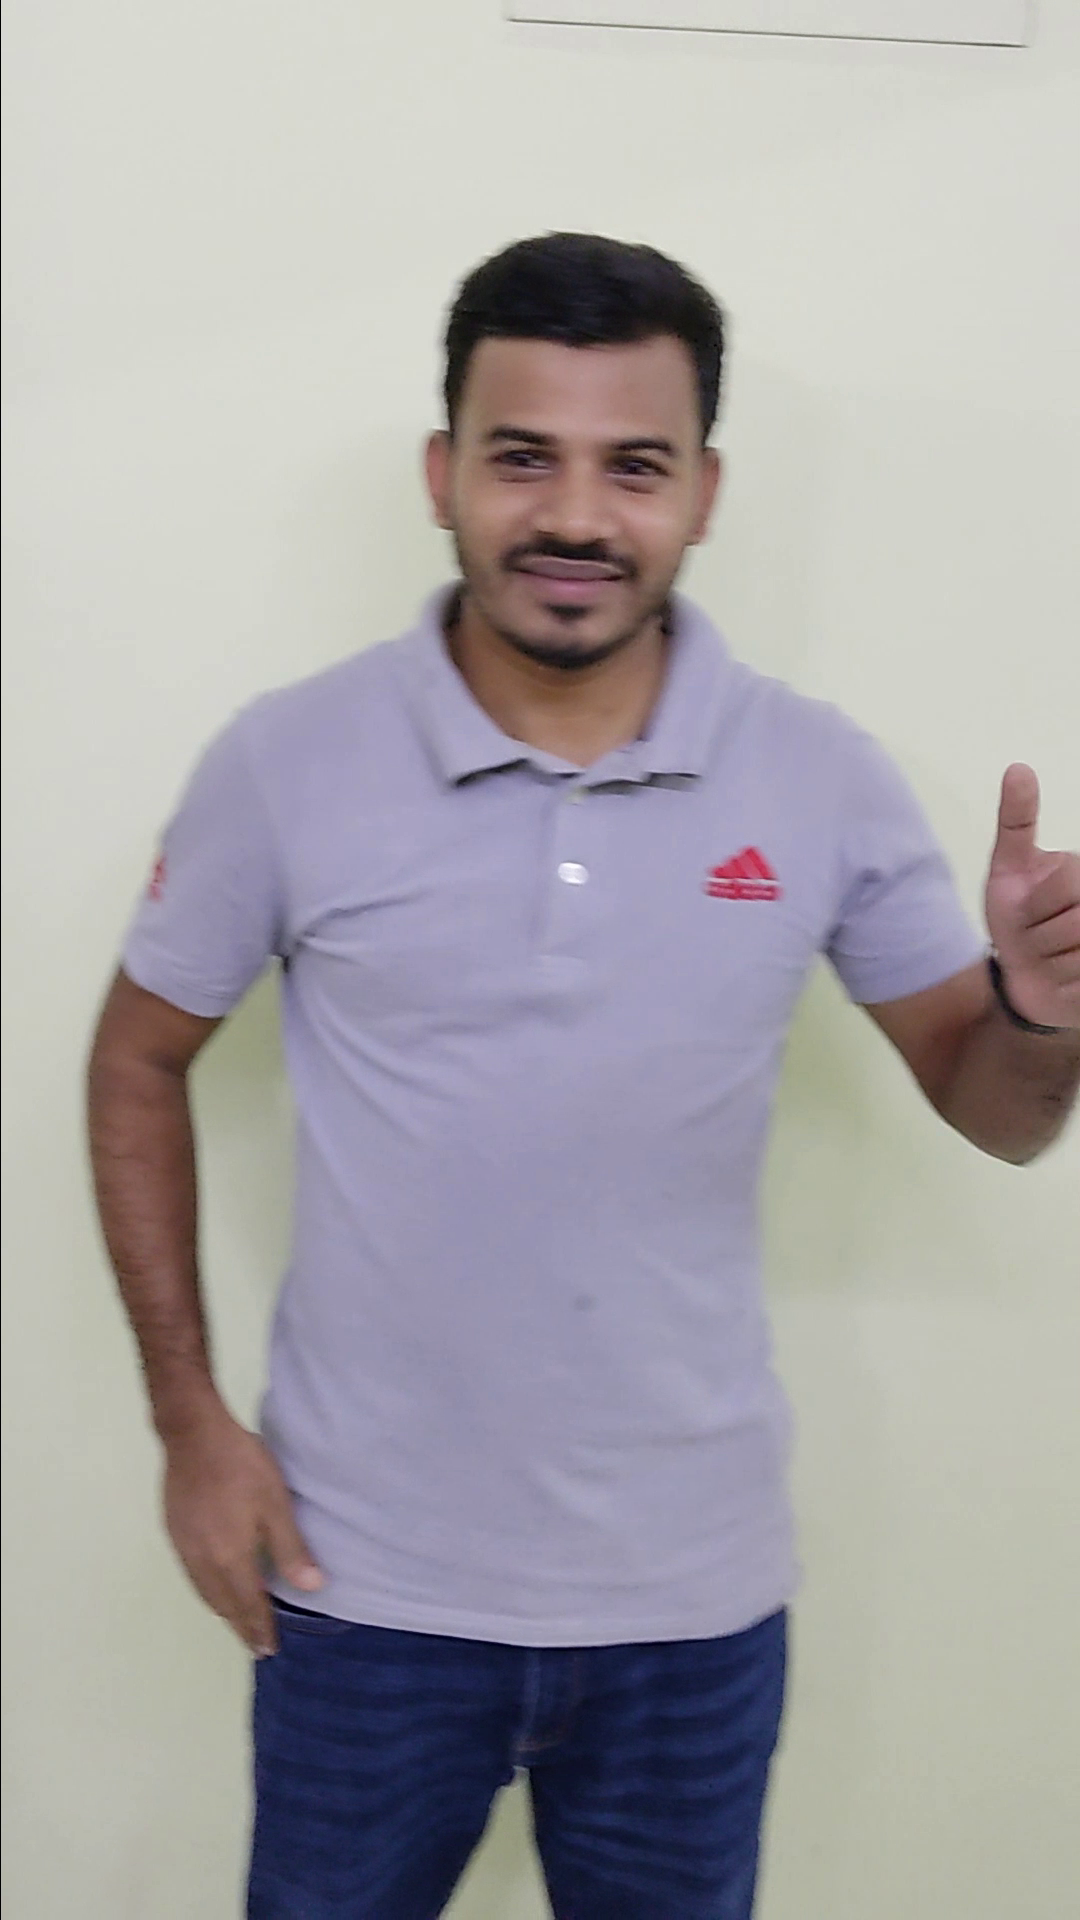Like: (969, 749, 1080, 1051)
None: (127, 1377, 348, 1684)
